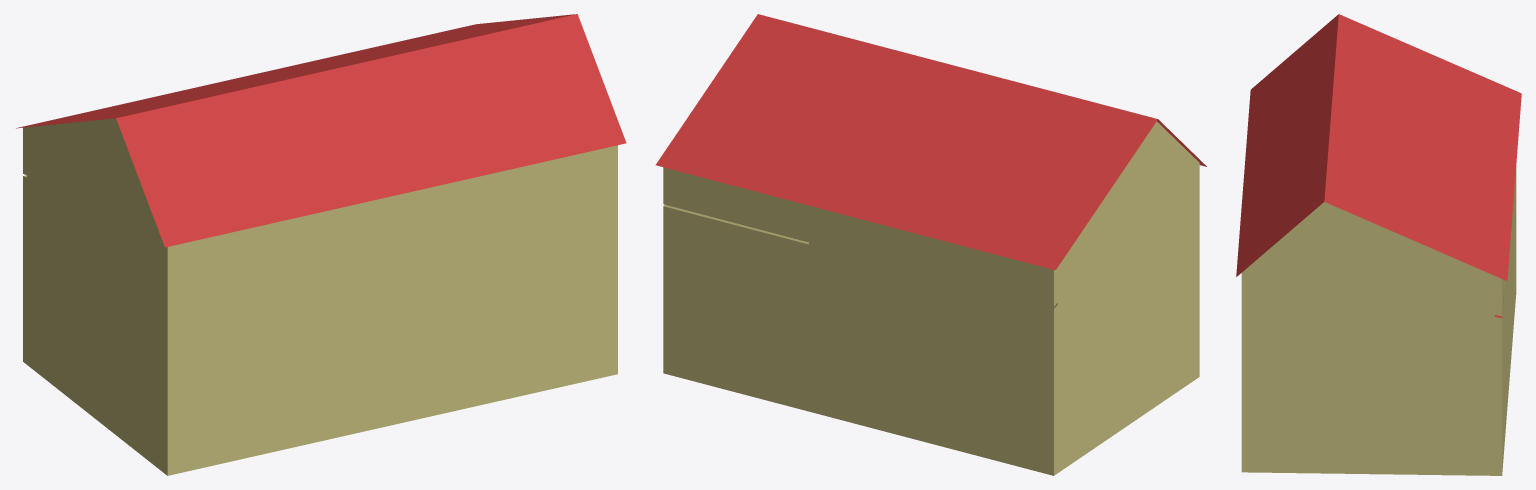
3 views of the same model, side by side, from view 1: azimuth 30°, elevation 25°; view 2: azimuth 150°, elevation 25°; view 3: azimuth 270°, elevation 25° (orthographic). The views are drawn at different scales.
Bounding box in the file's own units: 21.26 × 13.4 × 14.18.
